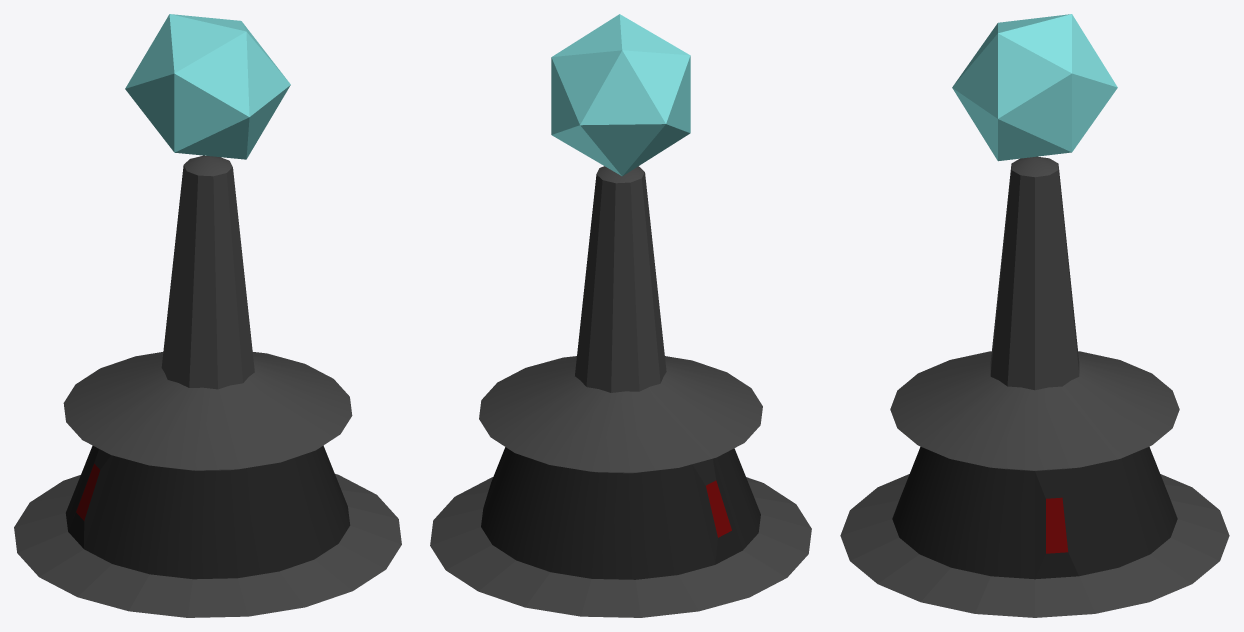
The model's file is Turret Tesla.fbx.
The picture shows the model from 3 angles, left to right: view 1: azimuth 30°, elevation 25°; view 2: azimuth 150°, elevation 25°; view 3: azimuth 270°, elevation 25°; orthographic projection.
Visible parts, largest first — view 1: pCylinder1, pPlatonic1, pCylinder2; view 2: pCylinder1, pPlatonic1, pCylinder2; view 3: pCylinder1, pPlatonic1, pCylinder2.
Boxes of the visible parts, x1,y1,x2,y2 form: pCylinder1: (14, 352, 401, 617); pPlatonic1: (125, 14, 290, 159); pCylinder2: (161, 155, 254, 389); pCylinder1: (430, 356, 811, 617); pPlatonic1: (551, 14, 690, 176); pCylinder2: (575, 166, 666, 392); pCylinder1: (840, 351, 1229, 617); pPlatonic1: (952, 14, 1117, 161); pCylinder2: (990, 156, 1079, 390).
Bounding box in the file's own units: 15.72 × 22.94 × 15.72.
